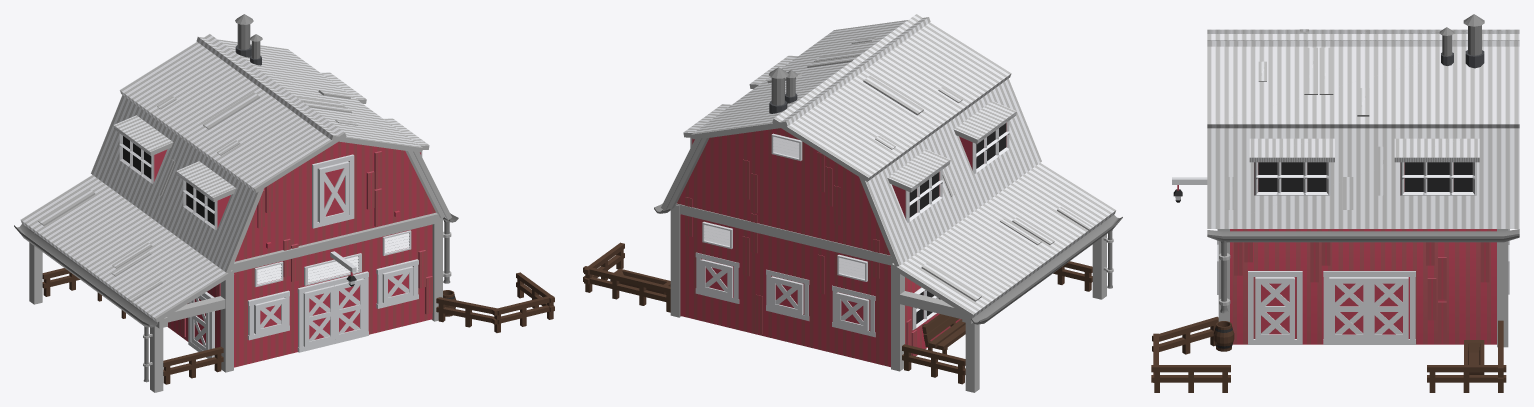
File: Barn no ground.gltf
3 renders of one model, left to right at view 1: azimuth 30°, elevation 25°; view 2: azimuth 150°, elevation 25°; view 3: azimuth 270°, elevation 25°, orthographic. The views are drawn at different scales.
Parts seen in each view (by area): view 1: node-0; view 2: node-0; view 3: node-0.
Part boxes in pixels (x1,y1,x2,y2): node-0: (14, 14, 554, 392); node-0: (583, 14, 1122, 392); node-0: (1151, 14, 1519, 392).
Bounding box in the file's own units: 8993 × 5583 × 6482.
1 material, 1 textured.
